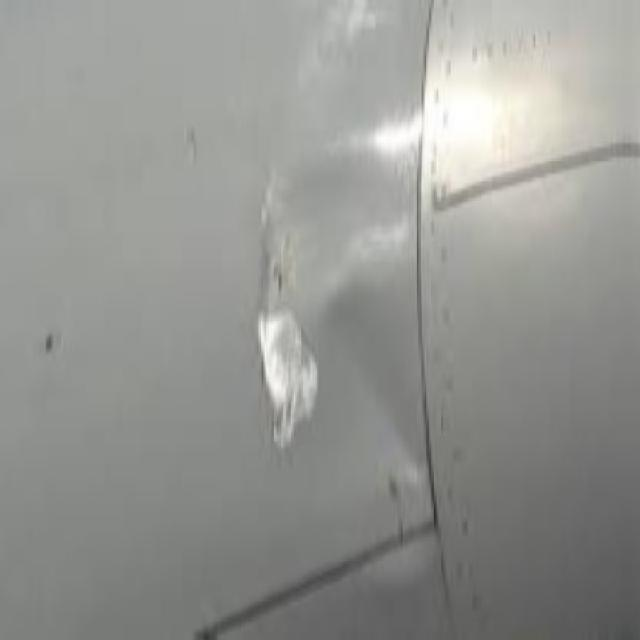dent: (255, 134, 323, 457)
